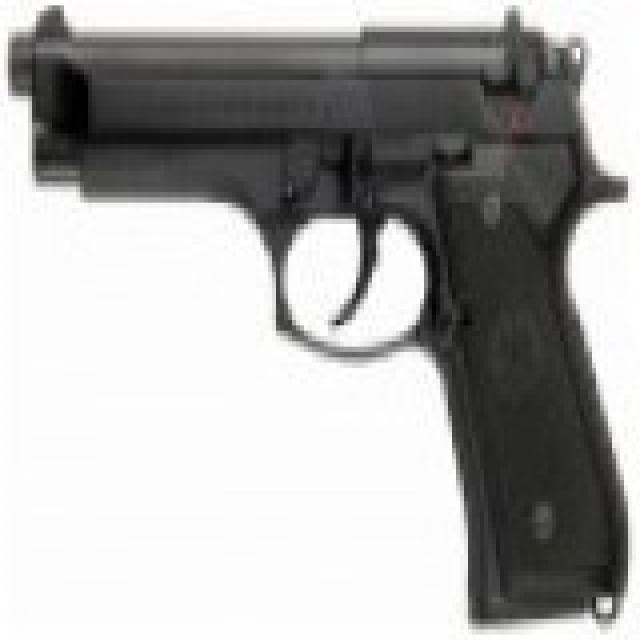gun: (4, 5, 640, 631)
